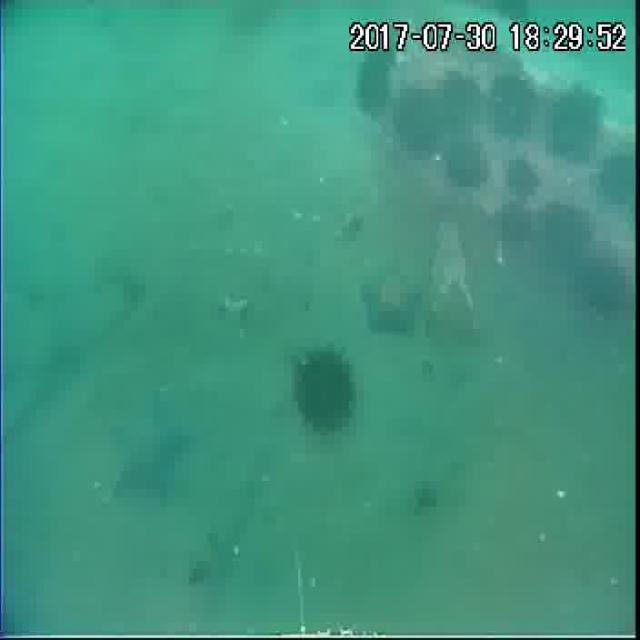echinus: (291, 345, 357, 429), (546, 84, 604, 168), (389, 90, 448, 164), (572, 249, 632, 320), (538, 203, 594, 276), (433, 68, 487, 136), (491, 67, 540, 136), (441, 134, 491, 200), (600, 142, 640, 210), (352, 56, 394, 116), (496, 201, 536, 246), (505, 154, 540, 198)
starfish: (107, 389, 188, 504), (358, 264, 426, 346)
